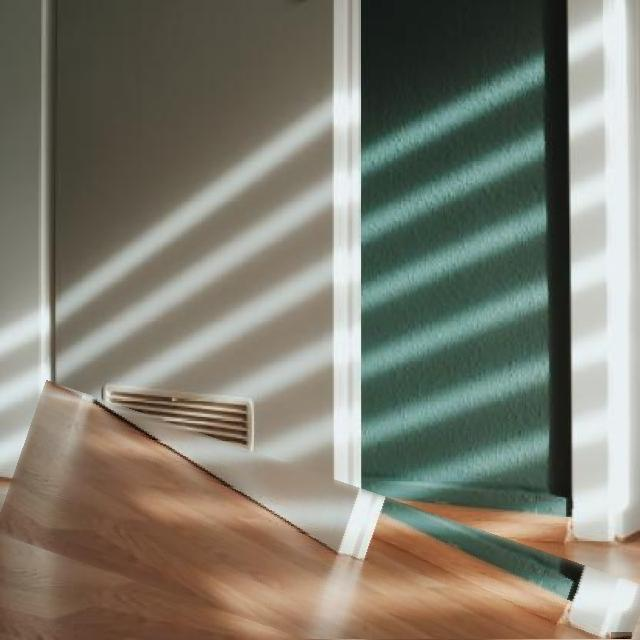floor: (0, 380, 586, 640), (612, 632, 632, 640)
